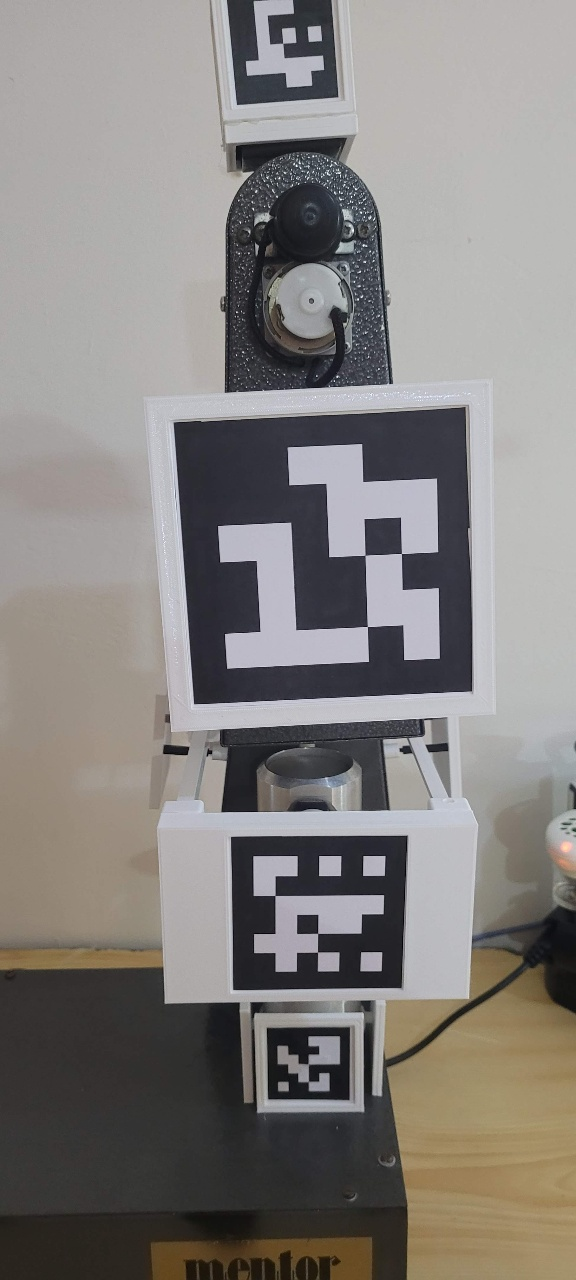Robot: (141, 4, 505, 1125)
